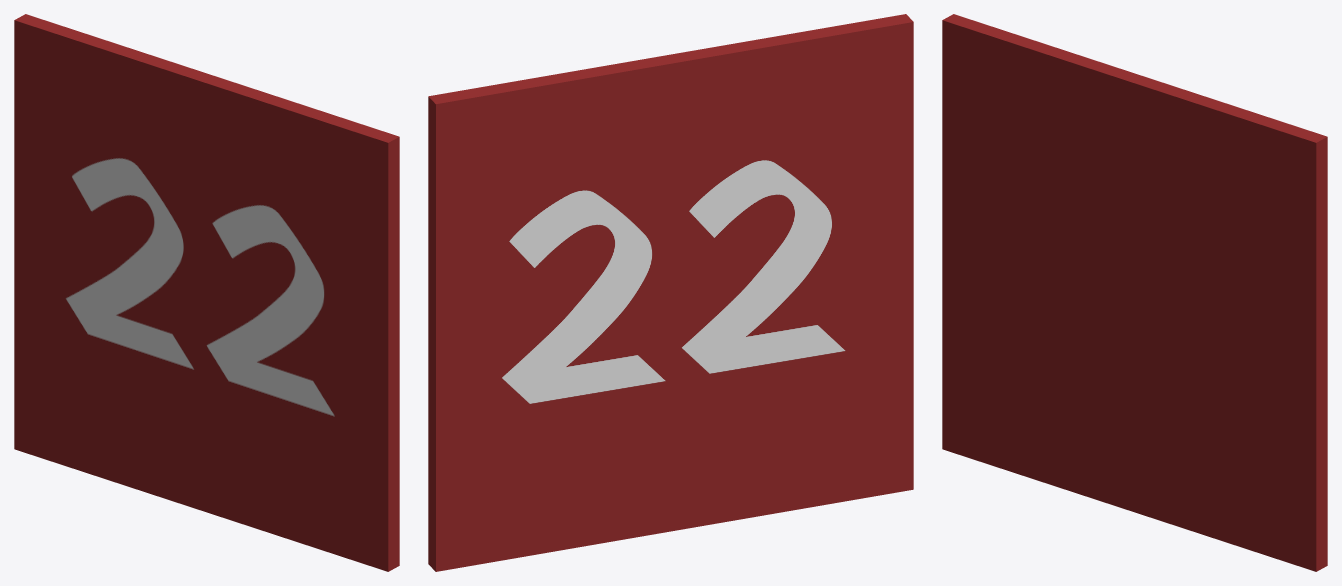
The model's file is flap21.glb.
3 views of the same model, side by side, from view 1: azimuth 90°, elevation 25°; view 2: azimuth 150°, elevation 25°; view 3: azimuth 270°, elevation 25° (orthographic). The views are drawn at different scales.
Visible parts, largest first — view 1: flap.021; view 2: flap.021; view 3: flap.021.
Boxes of the visible parts, x1=… form: flap.021: x1=14, y1=14, x2=399, y2=571; flap.021: x1=428, y1=14, x2=913, y2=571; flap.021: x1=942, y1=14, x2=1327, y2=571.
Bounding box in the file's own units: 0.1611 × 0.25 × 0.2035.
Materials: 1 (1 with a texture image).
